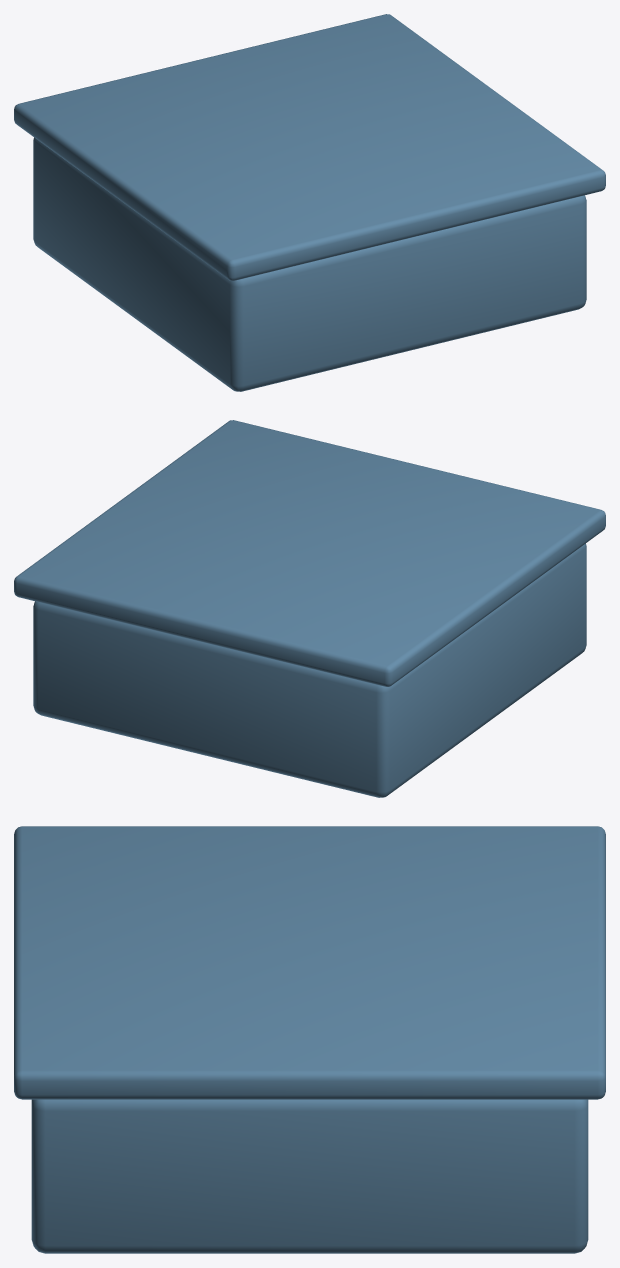
File: lacquer-block-table.glb
3 views of the same model, one above another, from view 1: azimuth 30°, elevation 25°; view 2: azimuth 150°, elevation 25°; view 3: azimuth 270°, elevation 25° (orthographic). The views are drawn at different scales.
Parts seen in each view (by area): view 1: lacquer-block-table; view 2: lacquer-block-table; view 3: lacquer-block-table.
Part boxes in pixels (x1=…): lacquer-block-table: x1=14, y1=14, x2=605, y2=391; lacquer-block-table: x1=14, y1=420, x2=605, y2=797; lacquer-block-table: x1=14, y1=826, x2=605, y2=1253.
Size of the model in its own units: 0.95 by 0.34 by 0.95.
